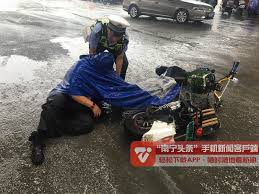fall: (27, 49, 116, 164)
